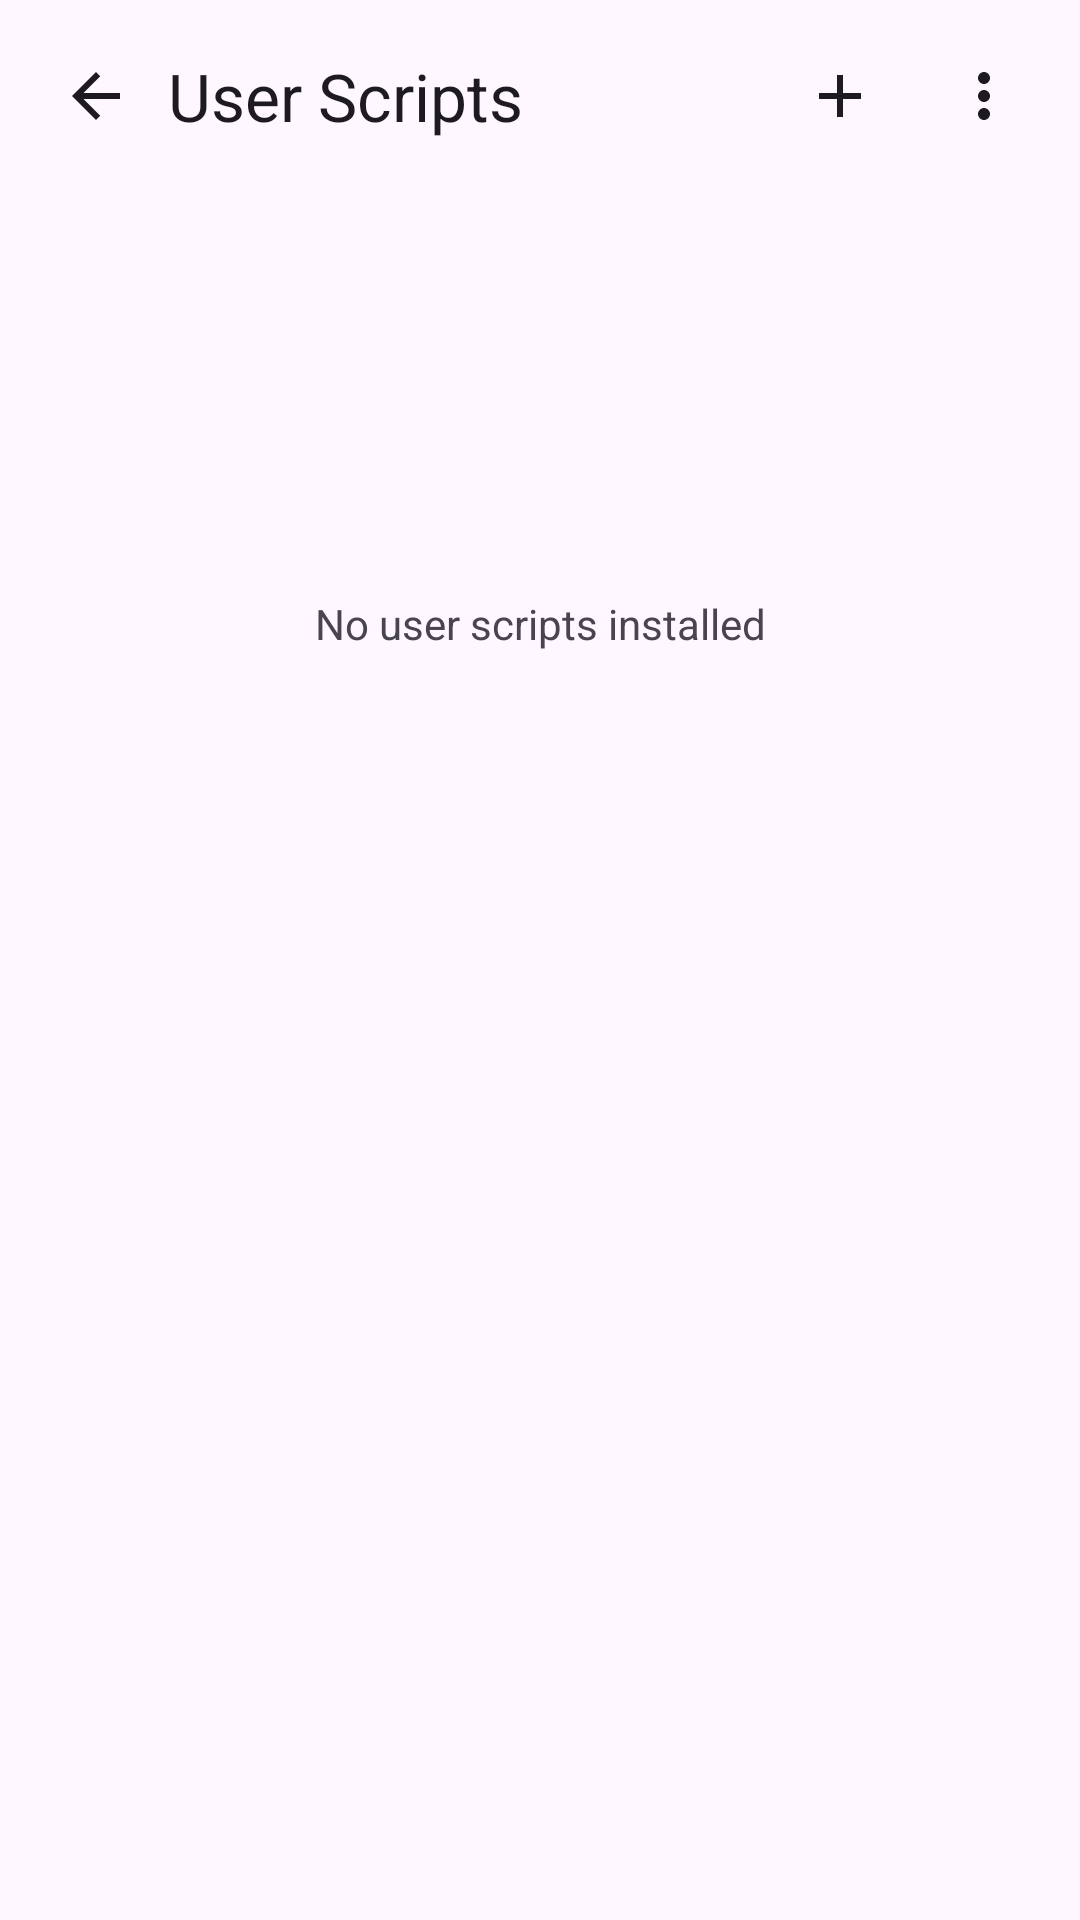

Screen size 1080w x 1920h. Icon name, then its center in pixels as [x,y]:
Back: [96,96]
Install user script from URL: [840,96]
More user script options: [984,96]
